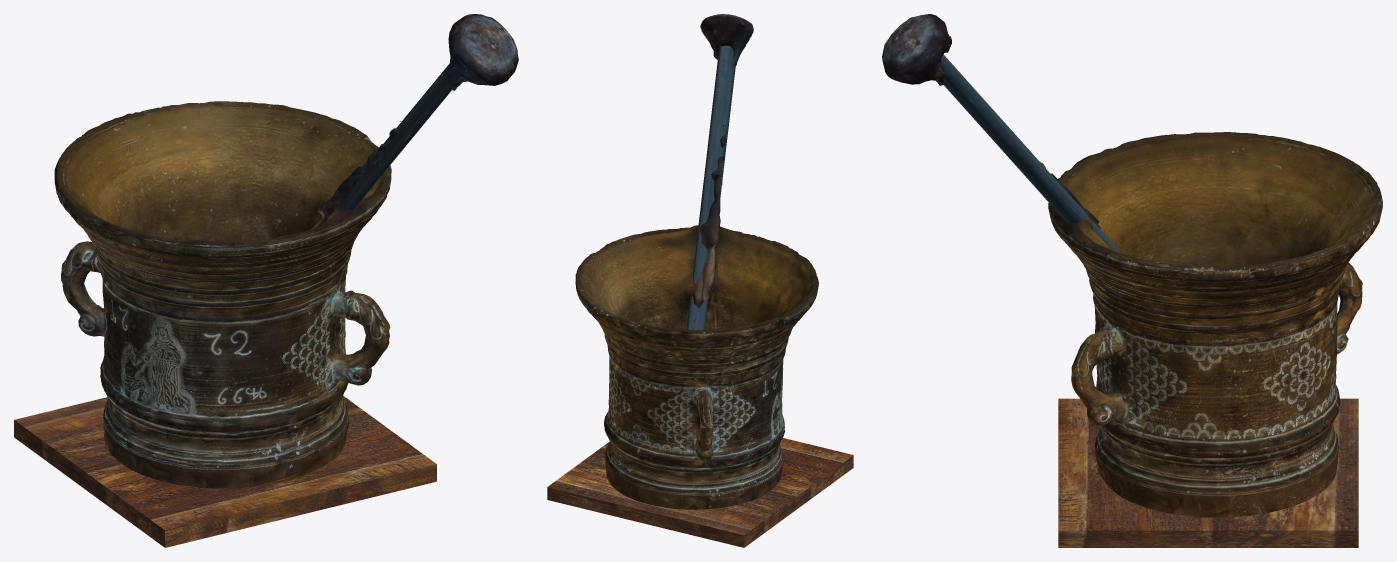
The model's file is moerser.glb.
The picture shows the model from 3 angles, left to right: view 1: azimuth 30°, elevation 25°; view 2: azimuth 150°, elevation 25°; view 3: azimuth 270°, elevation 25°; orthographic projection. The views are drawn at different scales.
Visible parts, largest first — view 1: Cube; view 2: Cube; view 3: Cube.
Part boxes in pixels (x1,y1,x2,y2): Cube: [14, 14, 518, 547]; Cube: [547, 14, 853, 547]; Cube: [882, 14, 1382, 547].
Bounding box in the file's own units: 1.56 × 2.64 × 2.33.
Materials: 3 (3 with a texture image).
